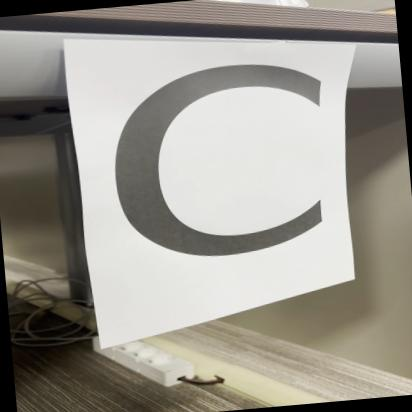seat: (54, 25, 358, 323)
